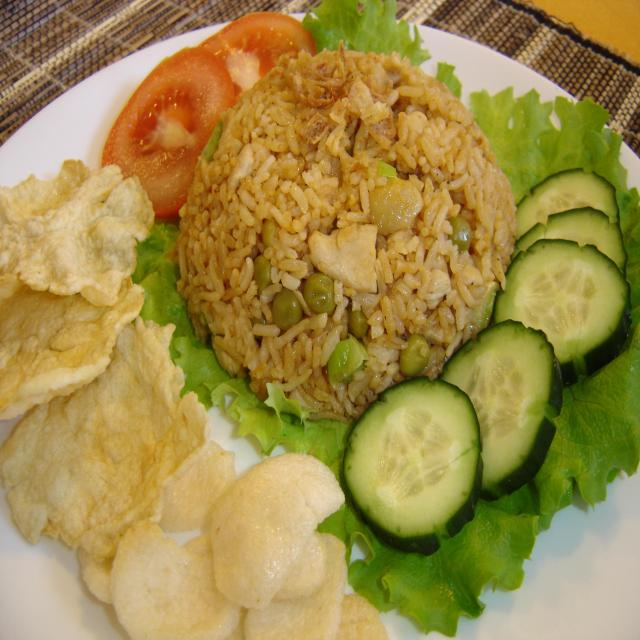Nasi Goreng: (180, 57, 532, 410)
